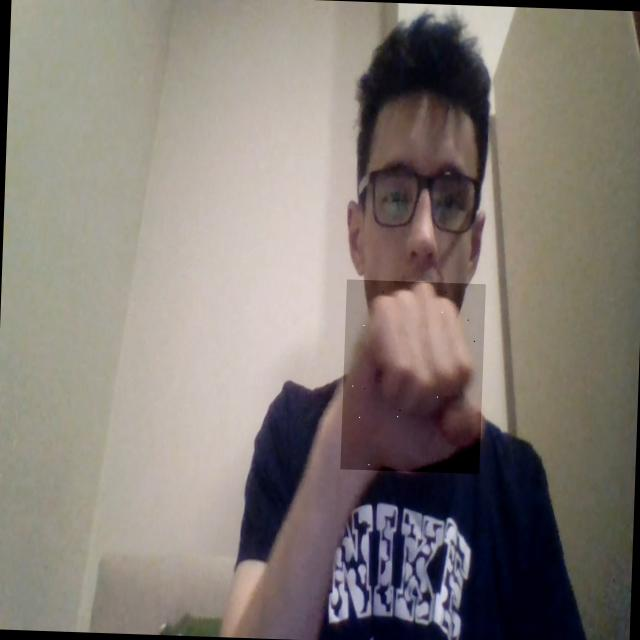yes: (340, 279, 485, 474)
